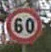limite 60: (6, 6, 42, 44)
